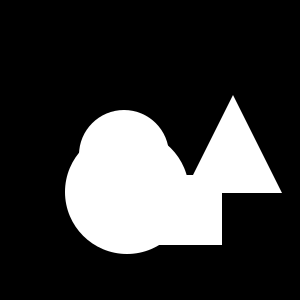circle: (152, 175, 222, 245)
rectangle: (65, 130, 189, 254), (79, 110, 169, 200), (125, 144, 182, 202)
triangle: (184, 95, 282, 193)
